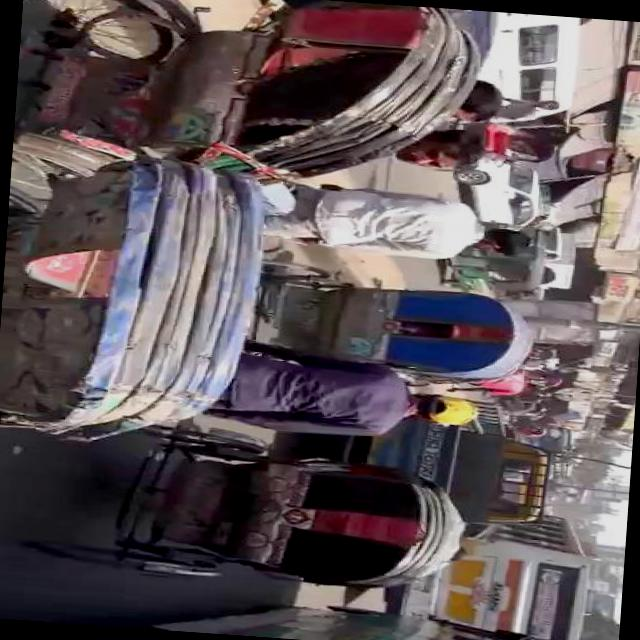bus: (397, 504, 598, 640), (126, 590, 589, 640), (530, 424, 578, 479)
car: (449, 156, 546, 234)
motorcycle: (22, 0, 489, 197), (21, 407, 476, 605), (0, 144, 278, 459), (247, 258, 544, 394), (436, 217, 559, 296), (479, 95, 561, 166)
truck: (343, 390, 568, 536), (472, 12, 584, 130), (524, 217, 584, 293)
